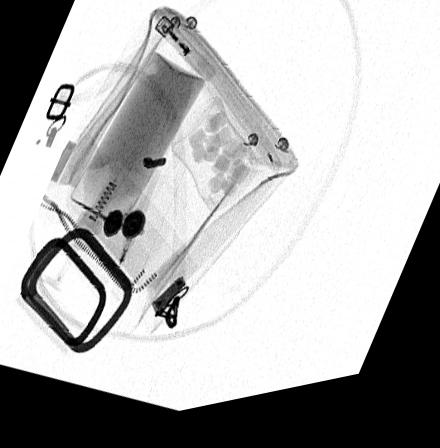Lighter: (153, 22, 216, 90)
